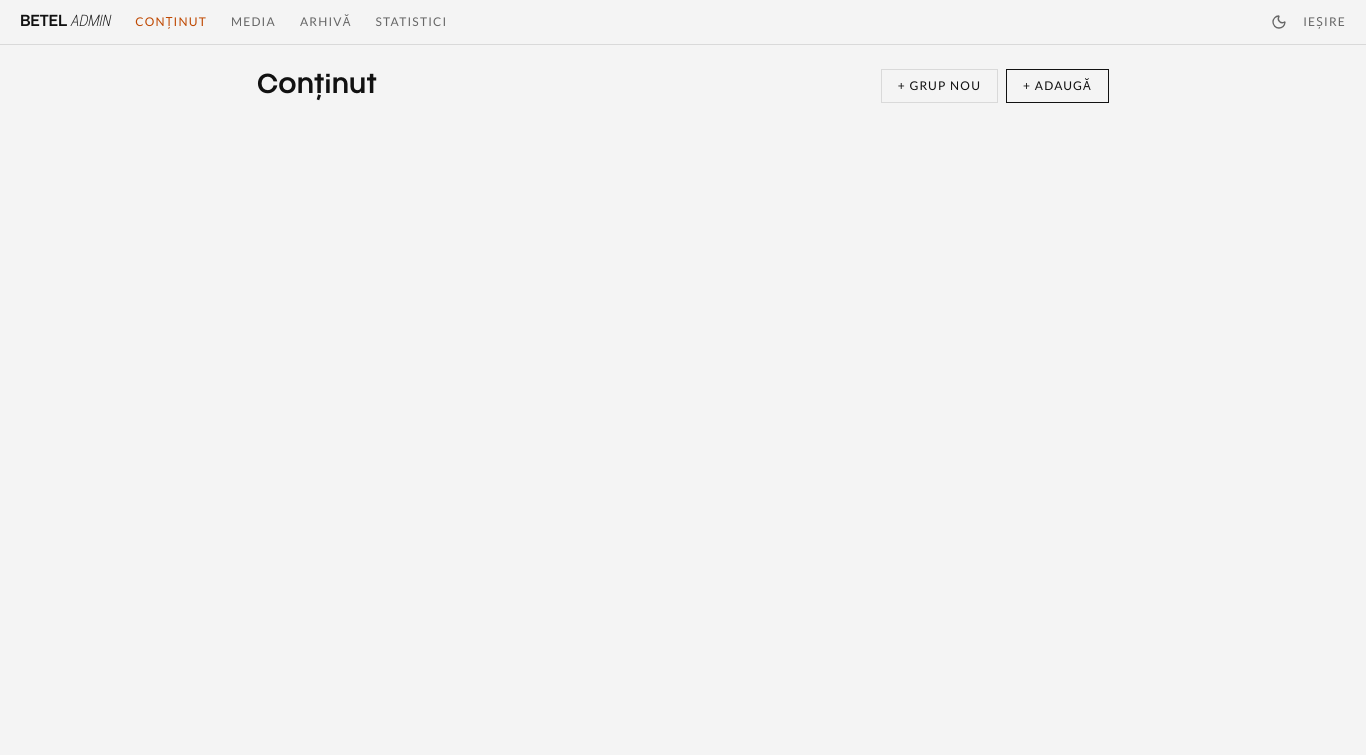
Scenario: Admin — per-site link overrides: visibility › overrides toggle disappears when link is cleared
This screenshot has width=1366, height=755.
Click the button with test id "create-content-btn" at coordinates (1058, 86), box [1006, 69, 1109, 103]
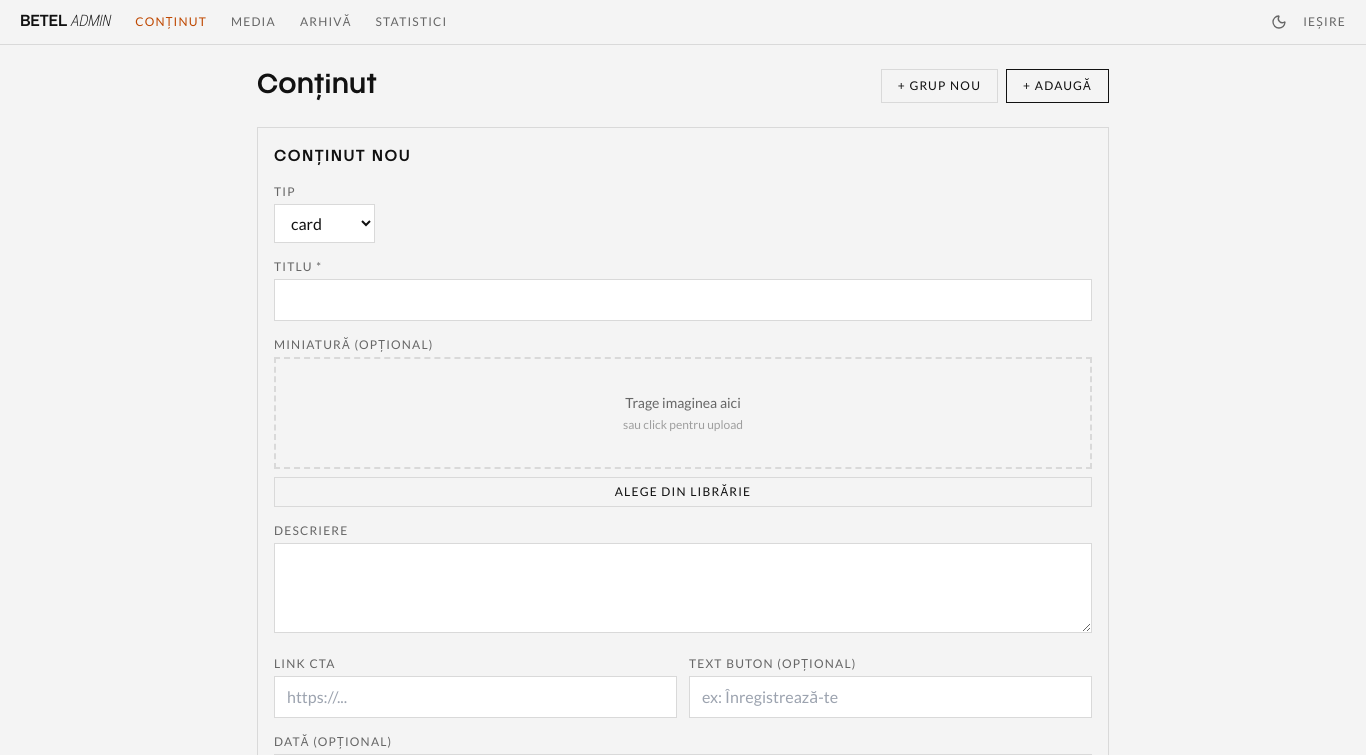
Select "card" in the dropdown with test id "create-type-select" at coordinates (325, 224), box [274, 204, 375, 243]
Type "https://betel.ro/donate" into the field with test id "create-link-input" at coordinates (476, 697), box [274, 676, 677, 718]
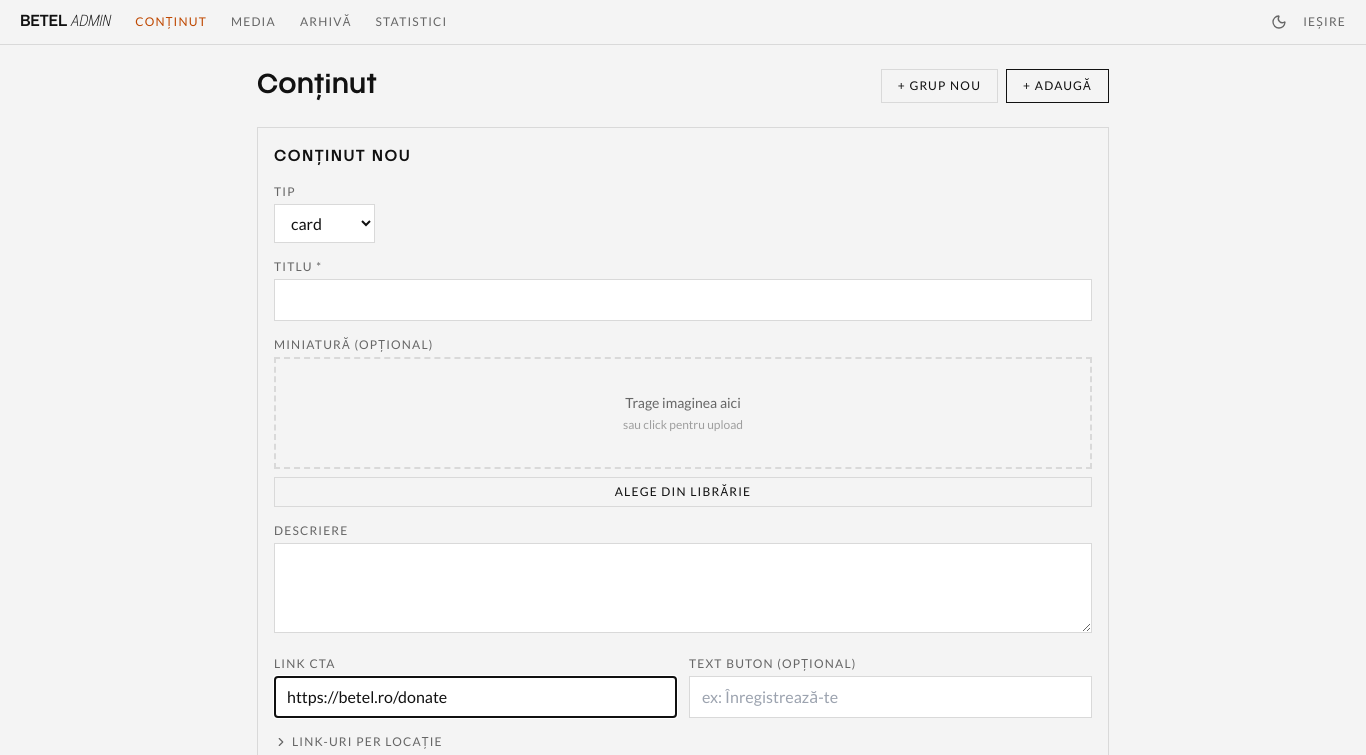
Result: the button with test id "site-link-overrides-toggle" is shown at [274, 734, 443, 750]
Clear the field with test id "create-link-input" at coordinates (476, 697), box [274, 676, 677, 718]
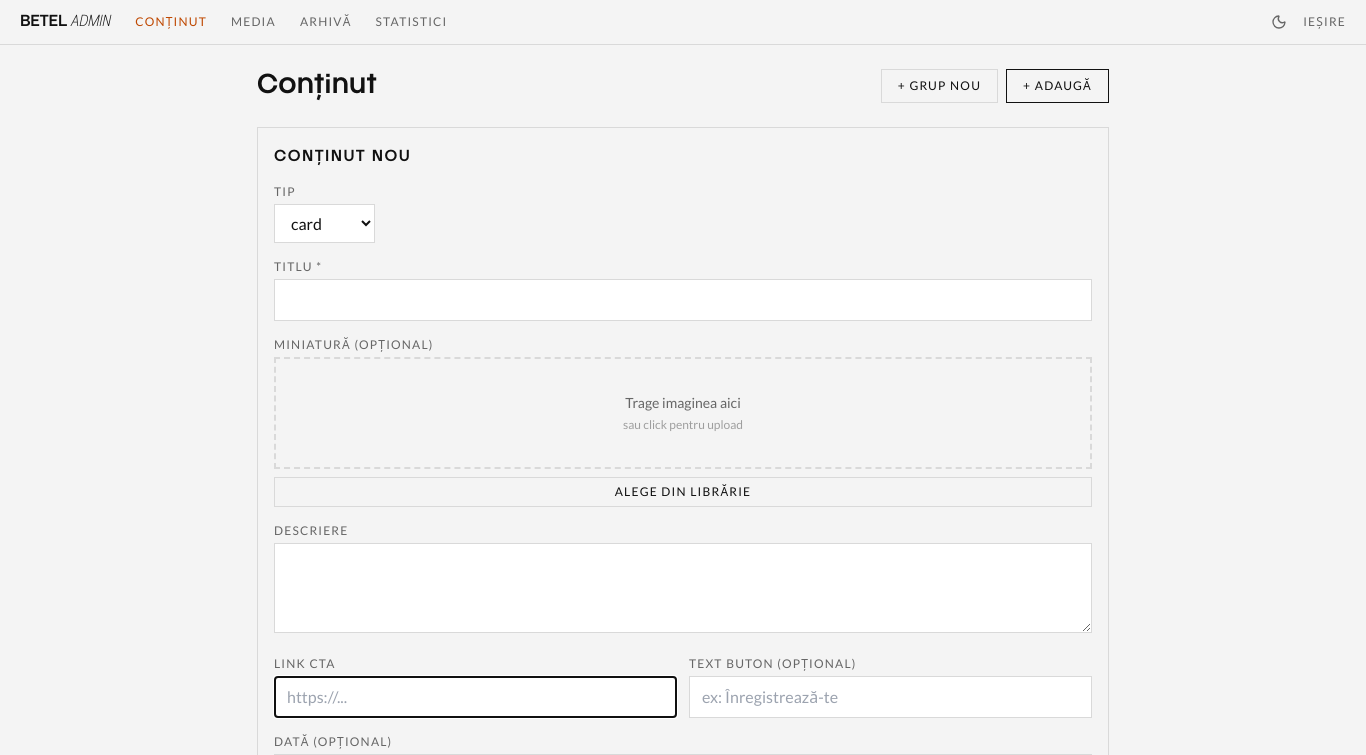
Result: the button with test id "site-link-overrides-toggle" is gone
